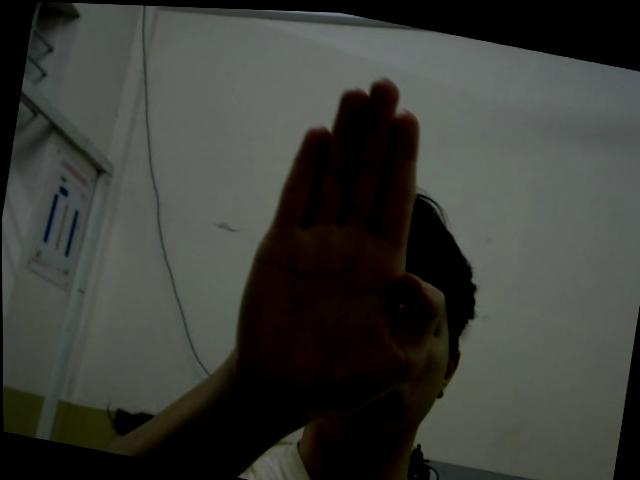B: (220, 53, 477, 433)
